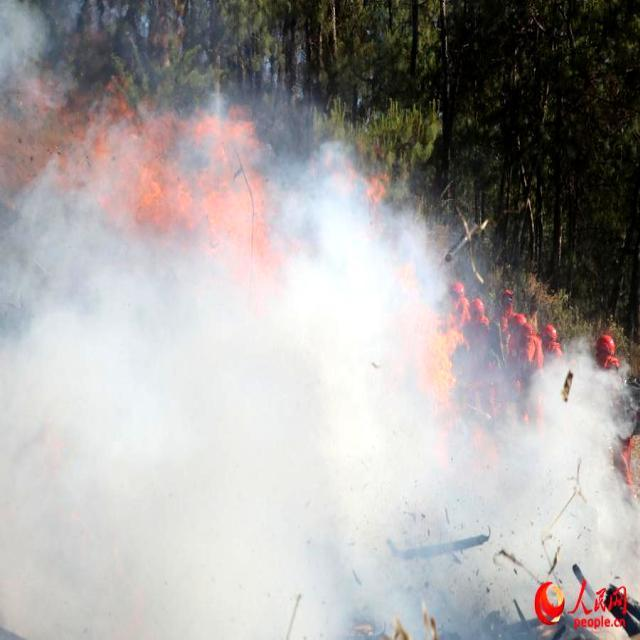Fire: (5, 64, 269, 268), (406, 274, 456, 396)
Smoke: (0, 84, 630, 630)
